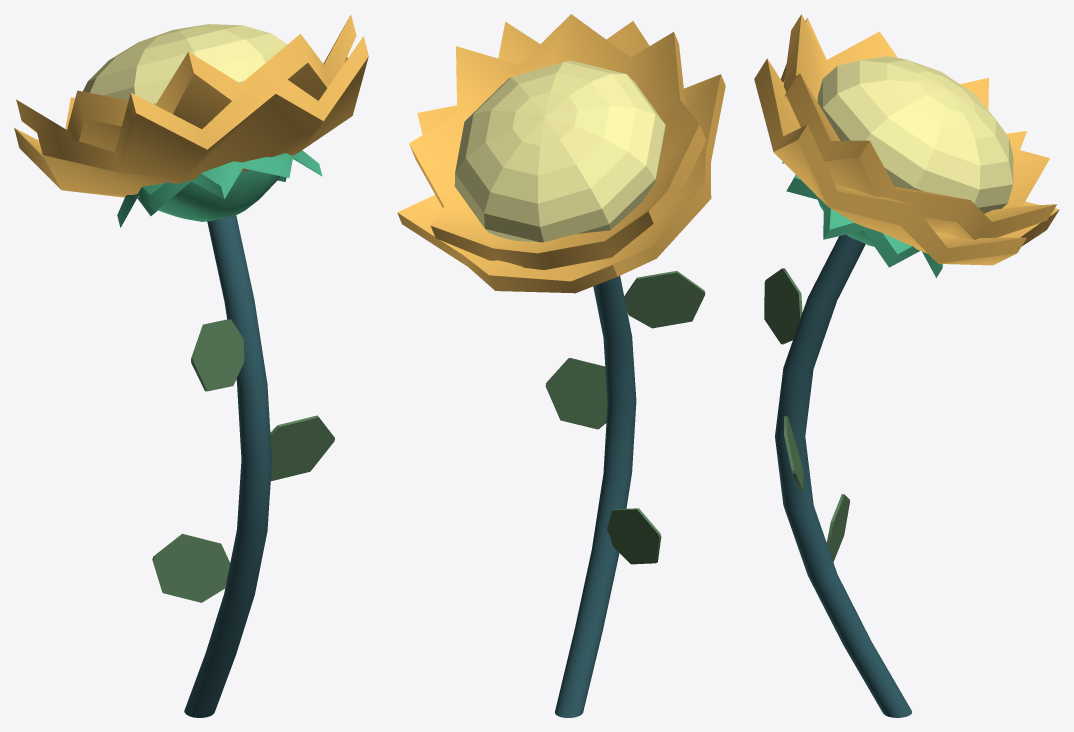
Rendered from FBX_Flower_Spiky.fbx.
3 views of the same model, side by side, from view 1: azimuth 30°, elevation 25°; view 2: azimuth 150°, elevation 25°; view 3: azimuth 270°, elevation 25° (orthographic). The views are drawn at different scales.
Visible parts, largest first — view 1: pCylinder8; view 2: pCylinder8; view 3: pCylinder8.
Boxes of the visible parts, x1,y1,x2,y2 form: pCylinder8: (14,14,368,717); pCylinder8: (397,14,725,717); pCylinder8: (754,14,1059,717).
Size of the model in its own units: 1.44 by 3.15 by 1.3.
1 material, 1 textured.
